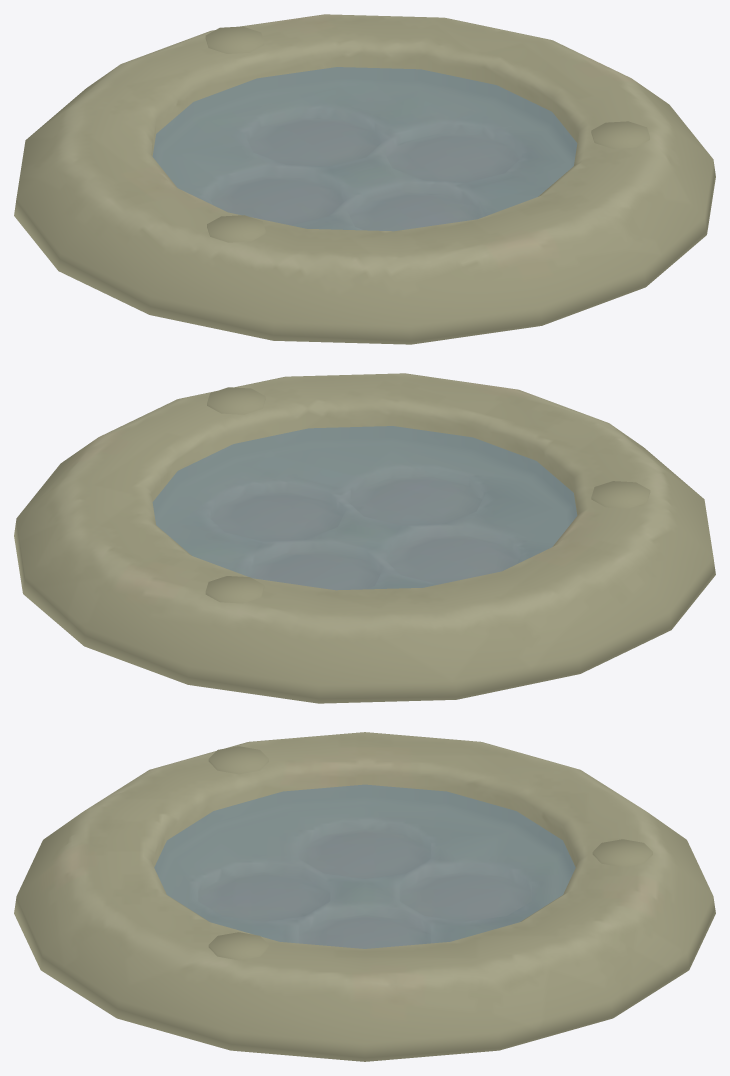
The picture shows the model from 3 angles, top to bottom: view 1: azimuth 30°, elevation 25°; view 2: azimuth 150°, elevation 25°; view 3: azimuth 270°, elevation 25°; orthographic projection.
Size of the model in its own units: 3.03 by 0.2934 by 3.03.
Materials: 2 (1 with a texture image).
